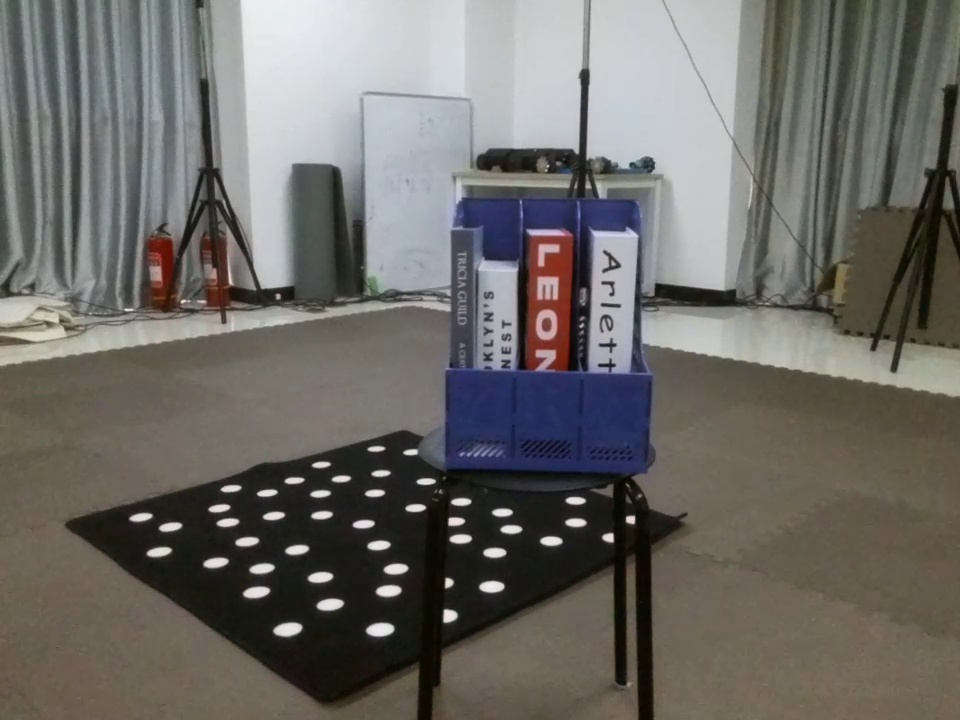files: (430, 187, 658, 483)
